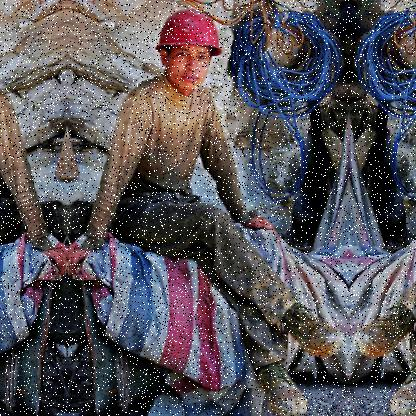Helmet: (156, 10, 222, 93)
